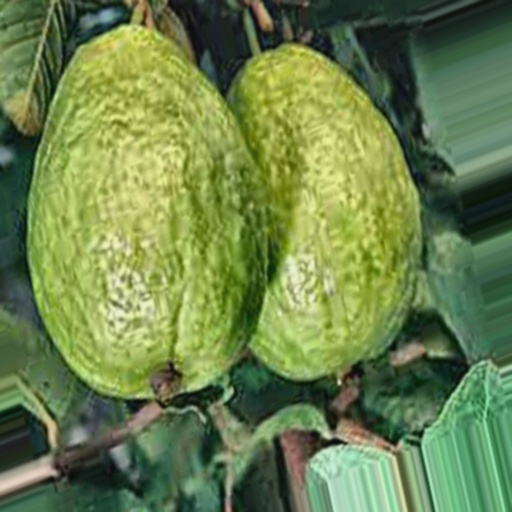guava: (90, 78, 480, 466)
